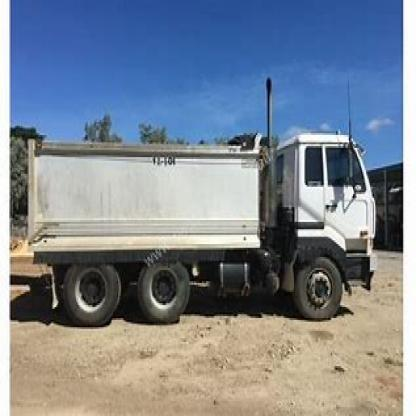dump_truck: (26, 102, 395, 335)
